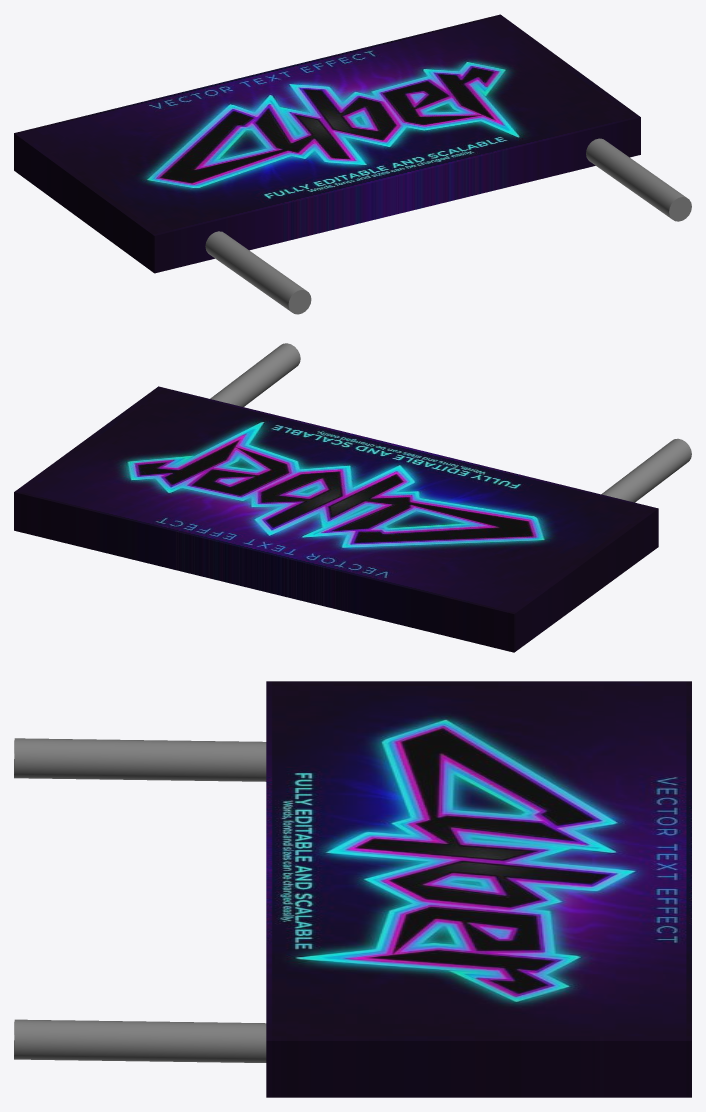
The model's file is sains5.fbx.
3 views of the same model, one above another, from view 1: azimuth 30°, elevation 25°; view 2: azimuth 150°, elevation 25°; view 3: azimuth 270°, elevation 25° (orthographic). The views are drawn at different scales.
Parts seen in each view (by area): view 1: Box001, Cylinder001, Cylinder002; view 2: Box001, Cylinder001, Cylinder002; view 3: Box001, Cylinder001, Cylinder002.
Boxes of the visible parts, x1=… form: Box001: x1=14, y1=14, x2=640, y2=273; Cylinder001: x1=205, y1=231, x2=311, y2=314; Cylinder002: x1=586, y1=138, x2=691, y2=221; Box001: x1=14, y1=386, x2=658, y2=652; Cylinder001: x1=601, y1=438, x2=691, y2=502; Cylinder002: x1=210, y1=343, x2=300, y2=406; Box001: x1=266, y1=681, x2=691, y2=1097; Cylinder001: x1=14, y1=738, x2=266, y2=781; Cylinder002: x1=14, y1=1019, x2=266, y2=1062.
Size of the model in its own units: 35.81 by 2.63 by 28.53.
2 materials, 1 textured.
